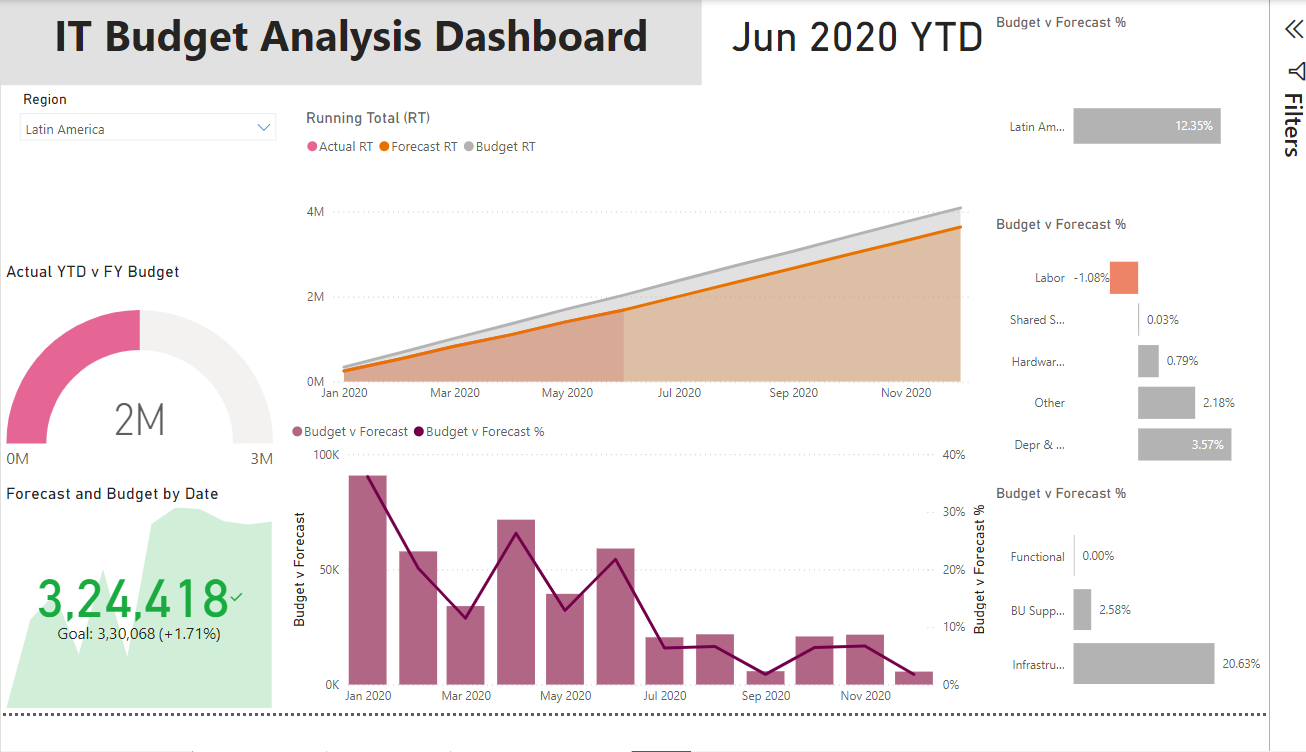

What the dashboard file says about the page in this screenshot:
{"tool":"powerbi","page":{"name":"Headline","canvas":[1280,720],"ordinal":0},"visuals":[{"type":"gauge","title":"Actual YTD v FY Budget","fields":{"Y":["Sum(Actuals.Actual)"],"TargetValue":["Sum(Budget.Budget)"]},"box":[0,263.9,279.5,245],"z":0},{"type":"kpi","fields":{"TrendLine":["Calendar.Date"],"Indicator":["Sum(Forecast.Forecast)"],"Goal":["Sum(Budget.Budget)"]},"box":[0,488.2,278.6,232],"z":1000},{"type":"areaChart","title":"Running Total (RT)","fields":{"Y":["Actuals.Actual RT","Forecast.Forecast RT","Budget.Budget RT"],"Category":["Calendar.Date.Variation.Date Hierarchy.Year","Calendar.Date.Variation.Date Hierarchy.Quarter","Calendar.Date.Variation.Date Hierarchy.Month","Calendar.Date.Variation.Date Hierarchy.Day"]},"box":[302.8,109,696.5,305.9],"z":3000},{"type":"lineClusteredColumnComboChart","fields":{"Category":["Calendar.Date"],"Y":["Budget.Budget v Forecast"],"Y2":["Budget.Budget v Forecast %"]},"box":[287.7,414.9,711.7,305.9],"z":4000},{"type":"clusteredBarChart","title":"Budget v Forecast %","fields":{"Category":["Regions.Region"],"Y":["Budget.Budget v Forecast %"]},"box":[999.4,13.6,280.1,204.4],"z":5000},{"type":"clusteredBarChart","title":"Budget v Forecast %","fields":{"Category":["CostElements.Cost Element Group"],"Y":["Budget.Budget v Forecast %"]},"box":[999.4,218,280.1,269.5],"z":6000},{"type":"clusteredBarChart","title":"Budget v Forecast %","fields":{"Category":["Departments.IT Area"],"Y":["Budget.Budget v Forecast %"]},"box":[999.4,489.1,280.1,230.2],"z":7000},{"type":"slicer","fields":{"Values":["Regions.Region"]},"box":[9.1,86.3,278.6,68.1],"z":8000},{"type":"card","fields":{"Values":["Actuals.YTD Month"]},"box":[729.8,0,269.5,63.6],"z":9000},{"type":"textbox","box":[0,0,707.1,86.3],"z":9001}]}

Visuals, with their boxes on the page's 1280x720 design canvas (x1, y1, x2, y2). These are canvas units, not pixel positions in the 1306x752 screenshot, which may show the page scaled, cropped or inside an application window:
"Actual YTD v FY Budget" gauge: (x1=0, y1=264, x2=280, y2=509)
kpi - Calendar.Date x Sum(Forecast.Forecast): (x1=0, y1=488, x2=279, y2=720)
"Running Total (RT)" areaChart: (x1=303, y1=109, x2=999, y2=415)
lineClusteredColumnComboChart - Calendar.Date x Budget.Budget v Forecast: (x1=288, y1=415, x2=999, y2=721)
"Budget v Forecast %" clusteredBarChart: (x1=999, y1=14, x2=1280, y2=218)
"Budget v Forecast %" clusteredBarChart: (x1=999, y1=218, x2=1280, y2=488)
"Budget v Forecast %" clusteredBarChart: (x1=999, y1=489, x2=1280, y2=719)
slicer - Regions.Region: (x1=9, y1=86, x2=288, y2=154)
card - Actuals.YTD Month: (x1=730, y1=0, x2=999, y2=64)
textbox: (x1=0, y1=0, x2=707, y2=86)
